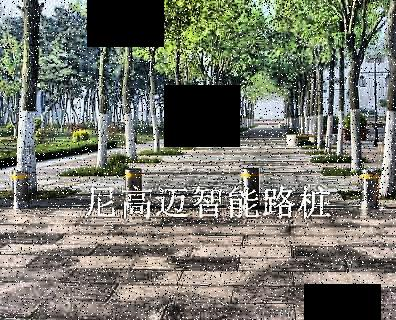bench: (357, 166, 381, 210), (8, 168, 32, 210)
